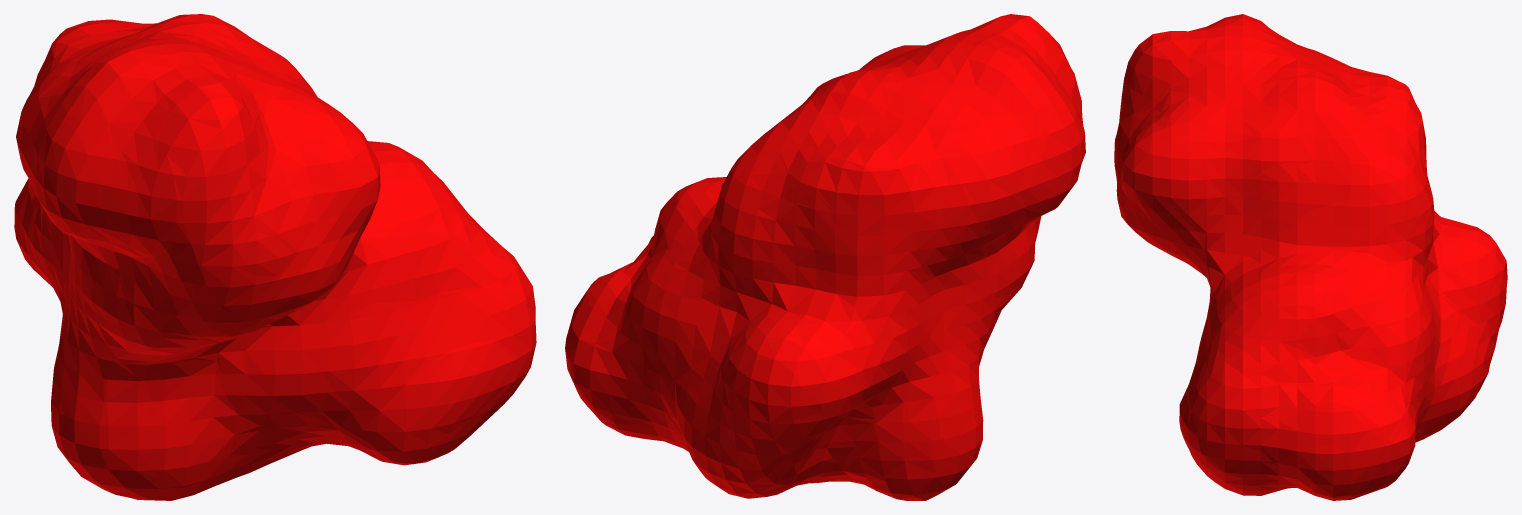
File: argR_coarse.dae
The picture shows the model from 3 angles, left to right: view 1: azimuth 30°, elevation 25°; view 2: azimuth 150°, elevation 25°; view 3: azimuth 270°, elevation 25°; orthographic projection. The views are drawn at different scales.
Visible parts, largest first — view 1: argR; view 2: argR; view 3: argR.
Boxes of the visible parts, <box> form: argR: <box>14,14,536,500</box>; argR: <box>565,14,1085,500</box>; argR: <box>1114,14,1507,500</box>.
Bounding box in the file's own units: 46.8 × 43.31 × 41.38.
